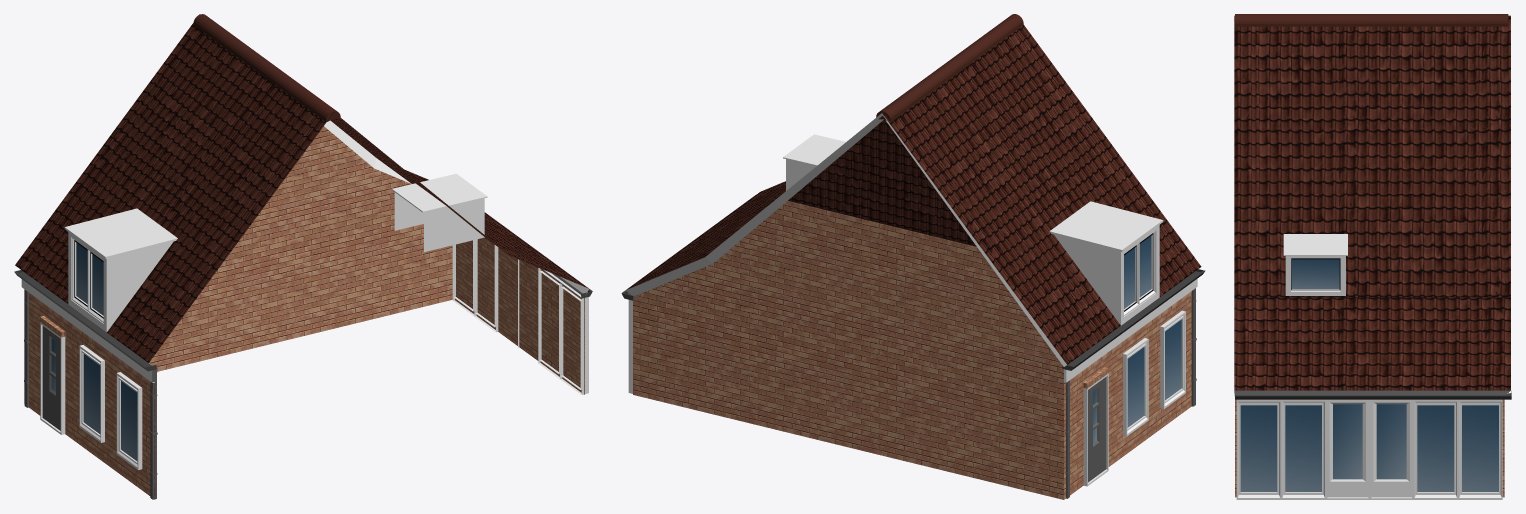
Rendered from Buorkerij_45.fbx.
3 renders of one model, left to right at view 1: azimuth 30°, elevation 25°; view 2: azimuth 150°, elevation 25°; view 3: azimuth 270°, elevation 25°, orthographic. The views are drawn at different scales.
Parts seen in each view (by area): view 1: Buorkerij_45; view 2: Buorkerij_45; view 3: Buorkerij_45.
Part boxes in pixels (bbox=[...]): Buorkerij_45: bbox=[14, 14, 592, 499]; Buorkerij_45: bbox=[621, 14, 1205, 499]; Buorkerij_45: bbox=[1234, 14, 1511, 499].
Bounding box in the file's own units: 11.47 × 8.45 × 5.97.
